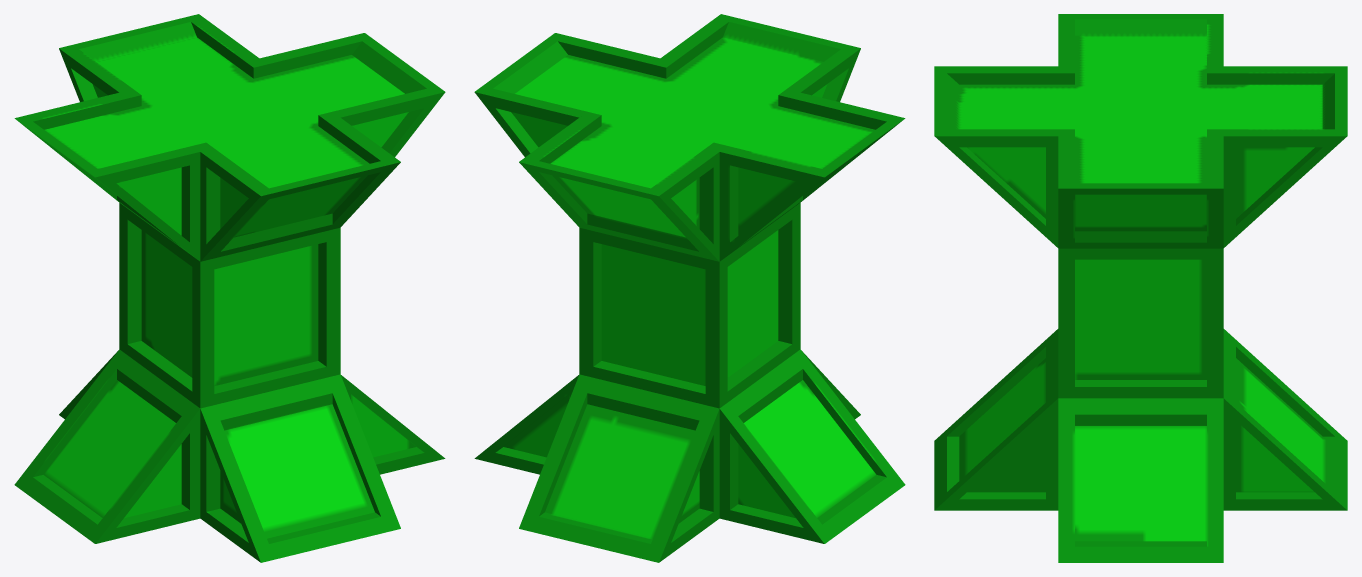
Rendered from Grass.fbx.
3 renders of one model, left to right at view 1: azimuth 30°, elevation 25°; view 2: azimuth 150°, elevation 25°; view 3: azimuth 270°, elevation 25°, orthographic. The views are drawn at different scales.
Parts seen in each view (by area): view 1: Grass; view 2: Grass; view 3: Grass.
Part boxes in pixels (x1,y1,x2,y2): Grass: [14, 14, 445, 562]; Grass: [474, 14, 905, 562]; Grass: [934, 14, 1347, 562].
Size of the model in its own units: 1 by 1 by 1.
Materials: 1 (1 with a texture image).
